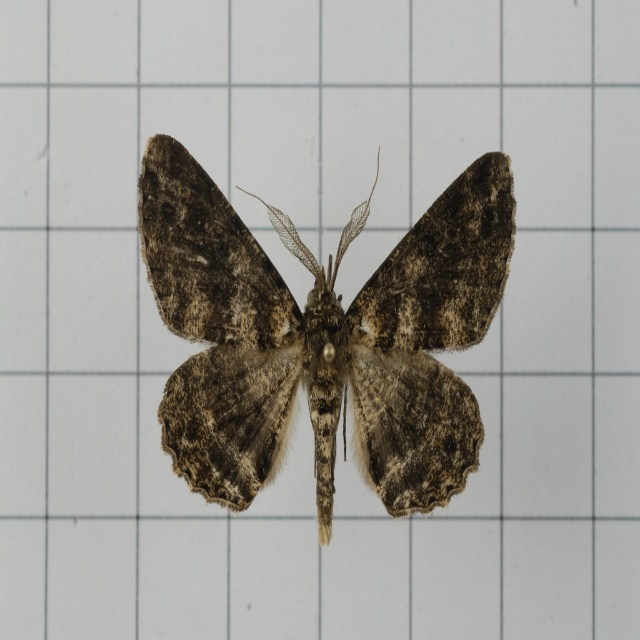Moths and butterflies: (136, 129, 518, 551)
